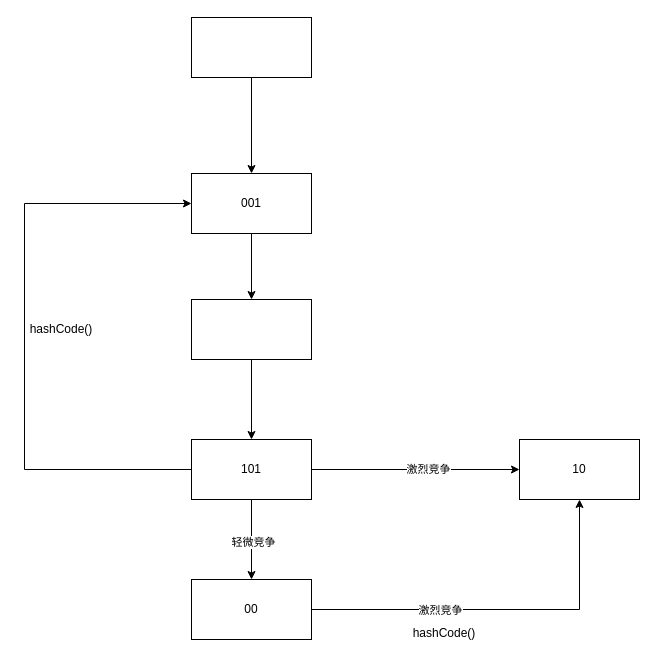
Some shapes in this 657 by 662 pixel diagram are drawn without their labels. The centre of each missing label's shape, as x and y in pixels:
"JVM加载程序4s后， new Object()" goes at [251,47].
"匿名101" goes at [251,329].
